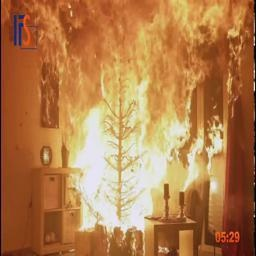fire: (3, 1, 253, 231)
